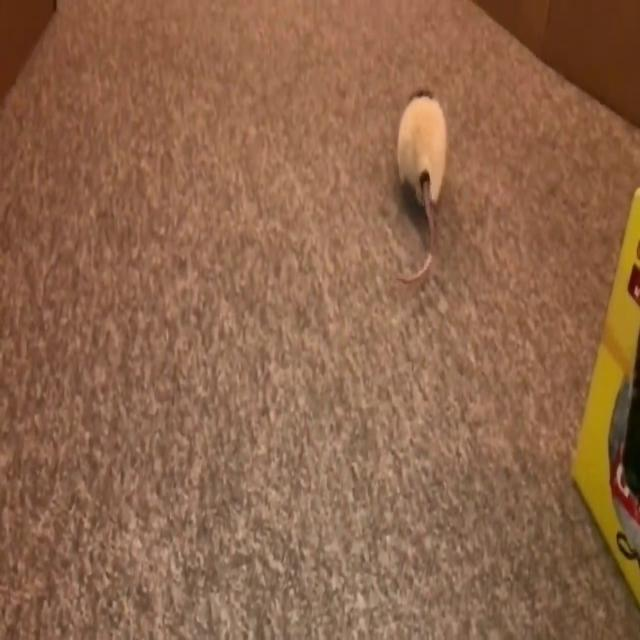rat: (394, 82, 450, 288)
